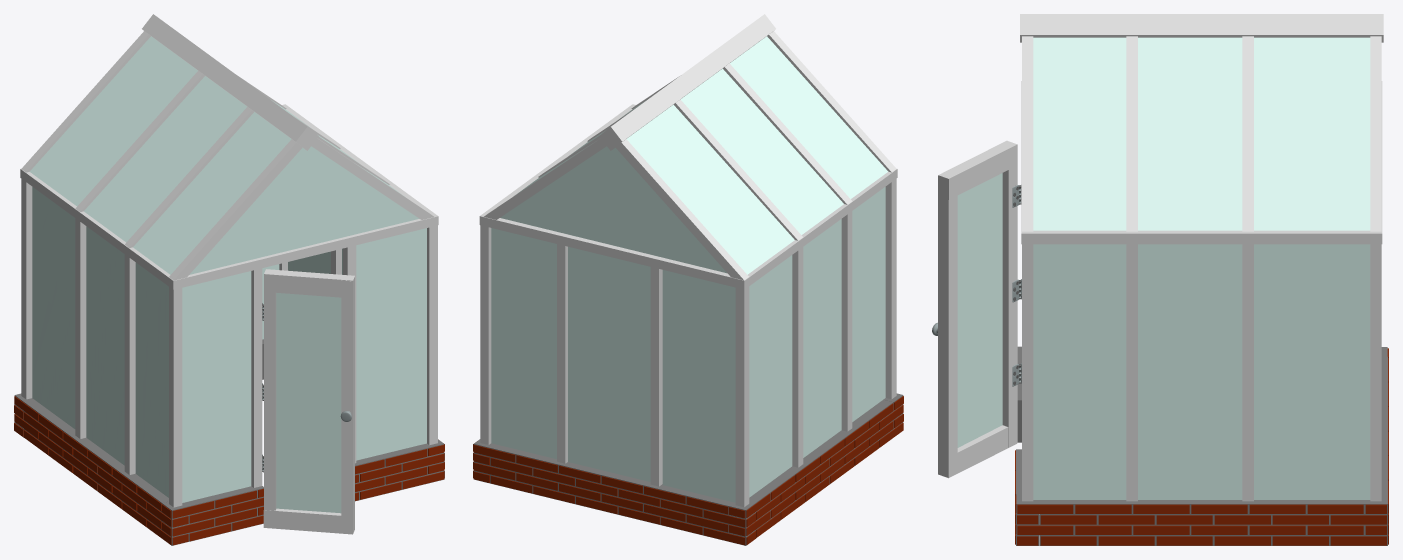
Rendered from greenhouse.fbx.
3 renders of one model, left to right at view 1: azimuth 30°, elevation 25°; view 2: azimuth 150°, elevation 25°; view 3: azimuth 270°, elevation 25°, orthographic. The views are drawn at different scales.
Visible parts, largest first — view 1: glass, girder, basis, door, door.001; view 2: glass, girder, basis; view 3: glass, girder, basis, door.001, door, door hinge.
Boxes of the visible parts, x1,y1,x2,y2 form: glass: (29,36,426,502); girder: (20,14,438,507); basis: (14,339,444,545); door: (276,293,341,513); door.001: (263,269,354,534); glass: (491,36,888,502); girder: (479,14,897,507); basis: (473,393,903,545); glass: (1033,37,1370,499); girder: (1020,14,1383,501); basis: (1015,346,1388,545); door.001: (938,140,1017,478); door: (957,173,1002,447); door hinge: (1012,185,1021,386).
Bounding box in the file's own units: 322 × 432 × 393.
